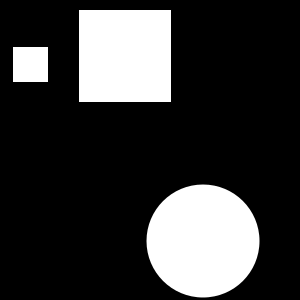circle: (79, 10, 171, 102), (13, 47, 48, 82)
rectangle: (146, 184, 260, 298)
